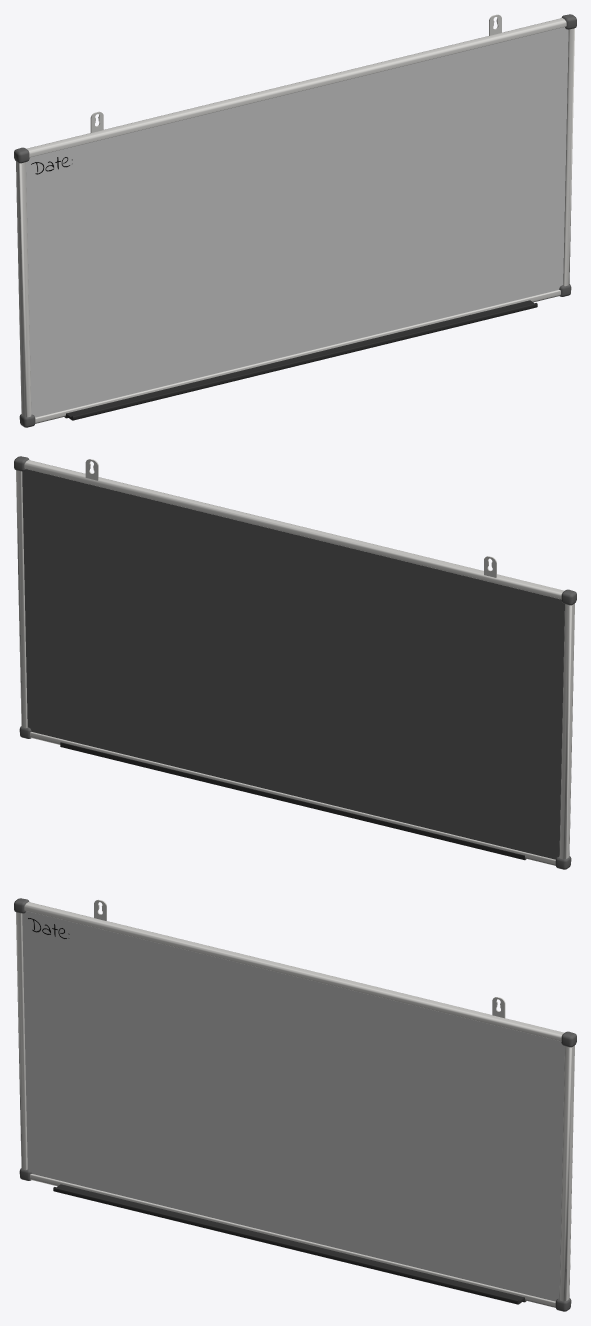
The model's file is whiteboard_low_poly.glb.
3 renders of one model, top to bottom at view 1: azimuth 30°, elevation 25°; view 2: azimuth 150°, elevation 25°; view 3: azimuth 330°, elevation 25°, orthographic.
Visible parts, largest first — view 1: White_board; view 2: White_board; view 3: White_board.
Boxes of the visible parts, left/top/right/bottom form: White_board: left=14, top=14, right=576, bottom=427; White_board: left=14, top=456, right=576, bottom=869; White_board: left=14, top=898, right=576, bottom=1311.
Size of the model in its own units: 1.36 by 0.6827 by 0.055.
1 material, 1 textured.
